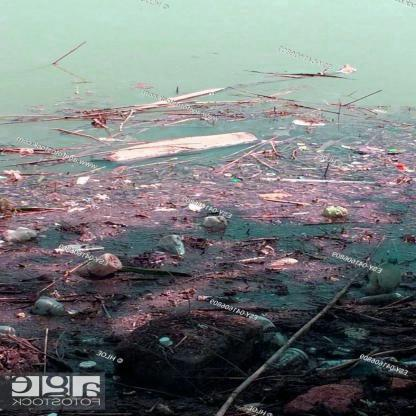Plastic: (31, 292, 76, 321), (271, 345, 307, 373)
